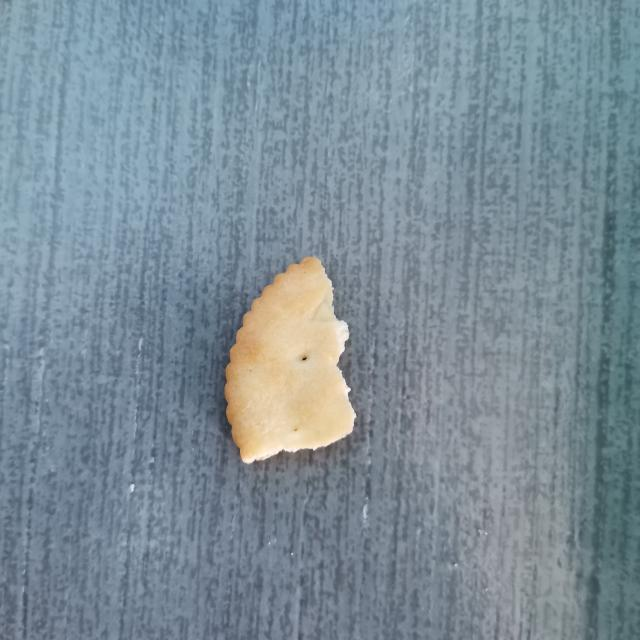Broken: (223, 255, 357, 465)
